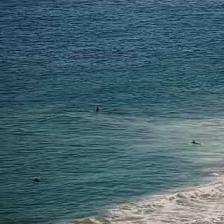surfer: (190, 140, 200, 145), (34, 178, 40, 183), (96, 107, 101, 112)
